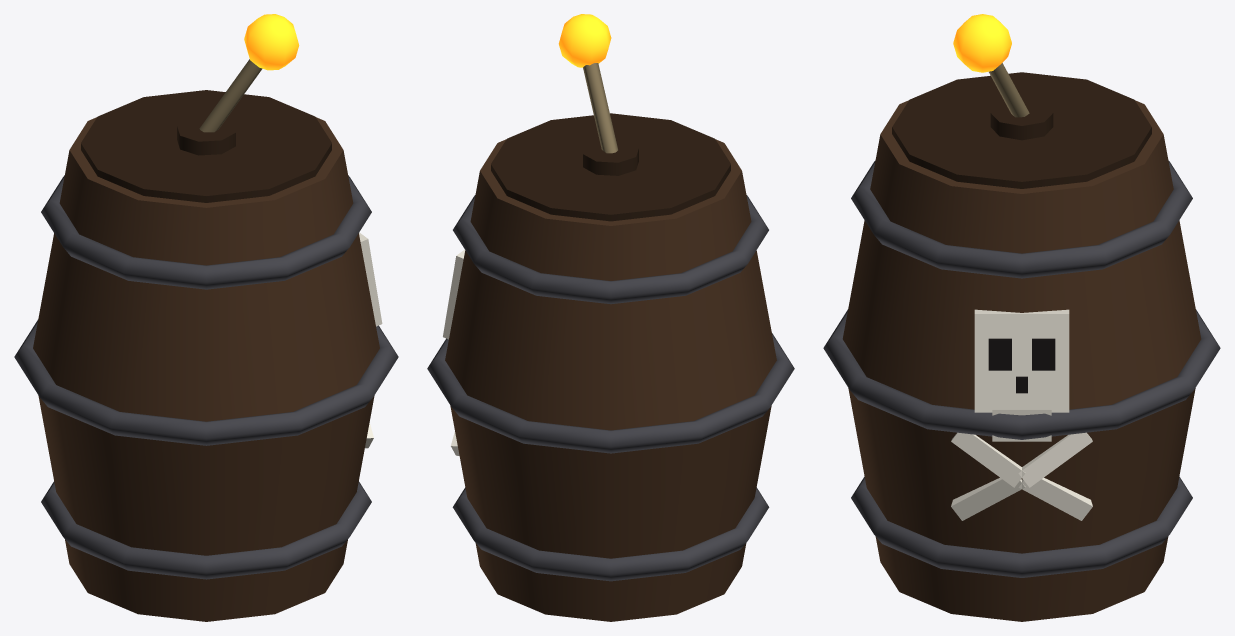
File: powder-barrel.glb
The picture shows the model from 3 angles, left to right: view 1: azimuth 30°, elevation 25°; view 2: azimuth 150°, elevation 25°; view 3: azimuth 270°, elevation 25°; orthographic projection. The views are drawn at different scales.
Visible parts, largest first — view 1: Mesh_BodyUpper, Mesh_BodyLower, Mesh_HeadTop, Mesh_Hoop1, Mesh_Hoop2, Mesh_Hoop0, Mesh_Fuse, Mesh_Bung, Mesh_FuseCord, Mesh_SkullHead; view 2: Mesh_BodyUpper, Mesh_BodyLower, Mesh_HeadTop, Mesh_Hoop1, Mesh_Hoop2, Mesh_Hoop0, Mesh_Fuse, Mesh_Bung, Mesh_FuseCord, Mesh_SkullHead; view 3: Mesh_BodyUpper, Mesh_BodyLower, Mesh_HeadTop, Mesh_Hoop1, Mesh_Hoop2, Mesh_Hoop0, Mesh_SkullHead, Mesh_Fuse, Mesh_Bung, Mesh_Bone0B, Mesh_Bone1A, Mesh_Bone0A (+5 smaller).
Part boxes in pixels (x1=…): Mesh_BodyUpper: x1=33, y1=117, x2=379, y2=421; Mesh_BodyLower: x1=38, y1=395, x2=374, y2=621; Mesh_HeadTop: x1=81, y1=90, x2=331, y2=202; Mesh_Hoop1: x1=14, y1=319, x2=398, y2=445; Mesh_Hoop2: x1=41, y1=175, x2=371, y2=289; Mesh_Hoop0: x1=41, y1=481, x2=371, y2=579; Mesh_Fuse: x1=244, y1=14, x2=299, y2=70; Mesh_Bung: x1=177, y1=117, x2=235, y2=155; Mesh_FuseCord: x1=199, y1=59, x2=262, y2=132; Mesh_SkullHead: x1=359, y1=232, x2=382, y2=326; Mesh_BodyUpper: x1=445, y1=139, x2=776, y2=430; Mesh_BodyLower: x1=450, y1=405, x2=771, y2=621; Mesh_HeadTop: x1=491, y1=113, x2=730, y2=221; Mesh_Hoop1: x1=427, y1=333, x2=794, y2=453; Mesh_Hoop2: x1=453, y1=195, x2=768, y2=304; Mesh_Hoop0: x1=452, y1=487, x2=769, y2=581; Mesh_Fuse: x1=558, y1=14, x2=611, y2=67; Mesh_Bung: x1=583, y1=139, x2=638, y2=175; Mesh_FuseCord: x1=583, y1=63, x2=617, y2=153; Mesh_SkullHead: x1=443, y1=249, x2=465, y2=339; Mesh_BodyUpper: x1=842, y1=100, x2=1201, y2=409; Mesh_BodyLower: x1=848, y1=388, x2=1195, y2=621; Mesh_HeadTop: x1=892, y1=72, x2=1151, y2=188; Mesh_Hoop1: x1=823, y1=309, x2=1220, y2=439; Mesh_Hoop2: x1=851, y1=160, x2=1192, y2=278; Mesh_Hoop0: x1=851, y1=476, x2=1192, y2=577; Mesh_SkullHead: x1=974, y1=309, x2=1069, y2=412; Mesh_Fuse: x1=953, y1=14, x2=1011, y2=72; Mesh_Bung: x1=990, y1=99, x2=1053, y2=140; Mesh_Bone0B: x1=1018, y1=432, x2=1092, y2=487; Mesh_Bone1A: x1=951, y1=432, x2=1025, y2=487; Mesh_Bone0A: x1=951, y1=478, x2=1025, y2=520.
Bounding box in the file's own units: 1.01 × 1.6 × 1.01.
